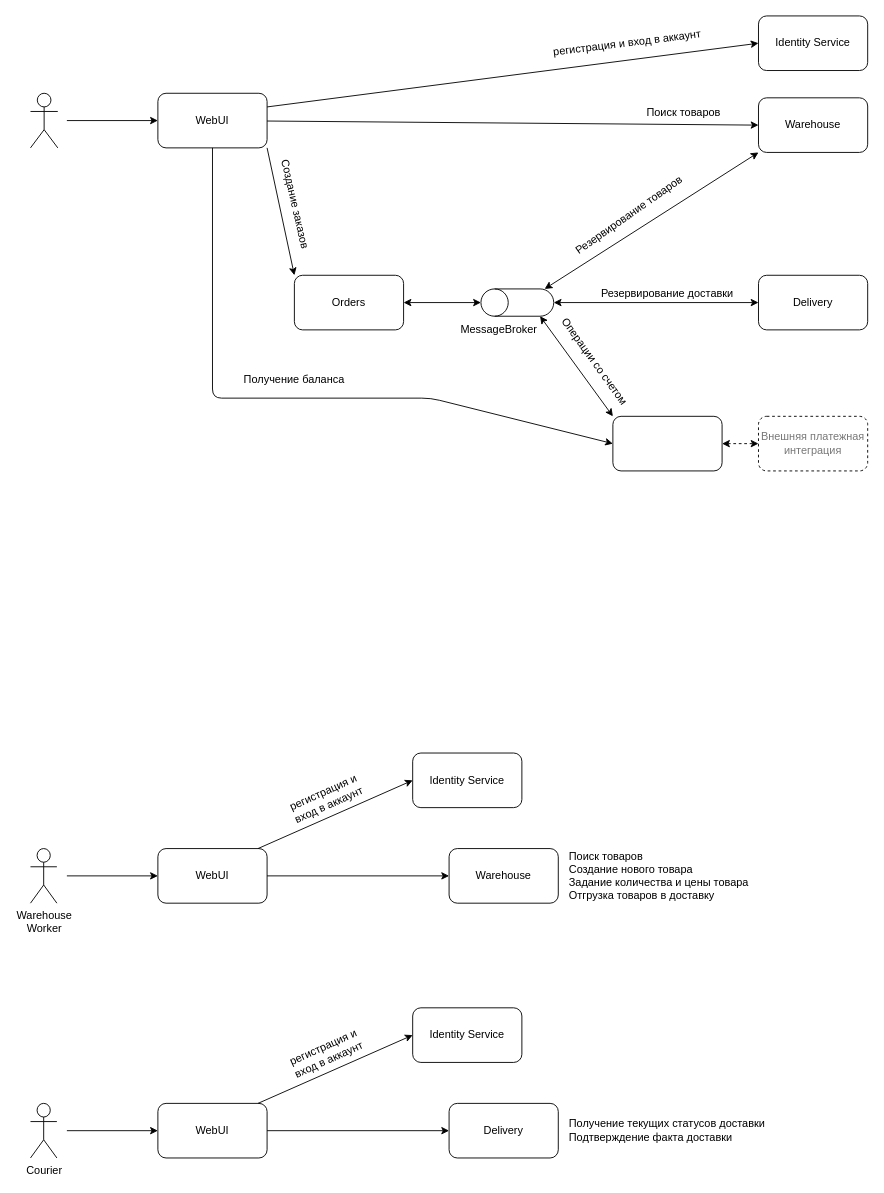
Image size: 884x1193. Some labels were removed from this diagram. The centre of each missing label's shape, as x and y in pixels:
"Billing" belongs at pixel 667 443.
"Client" belongs at pixel 44 120.
